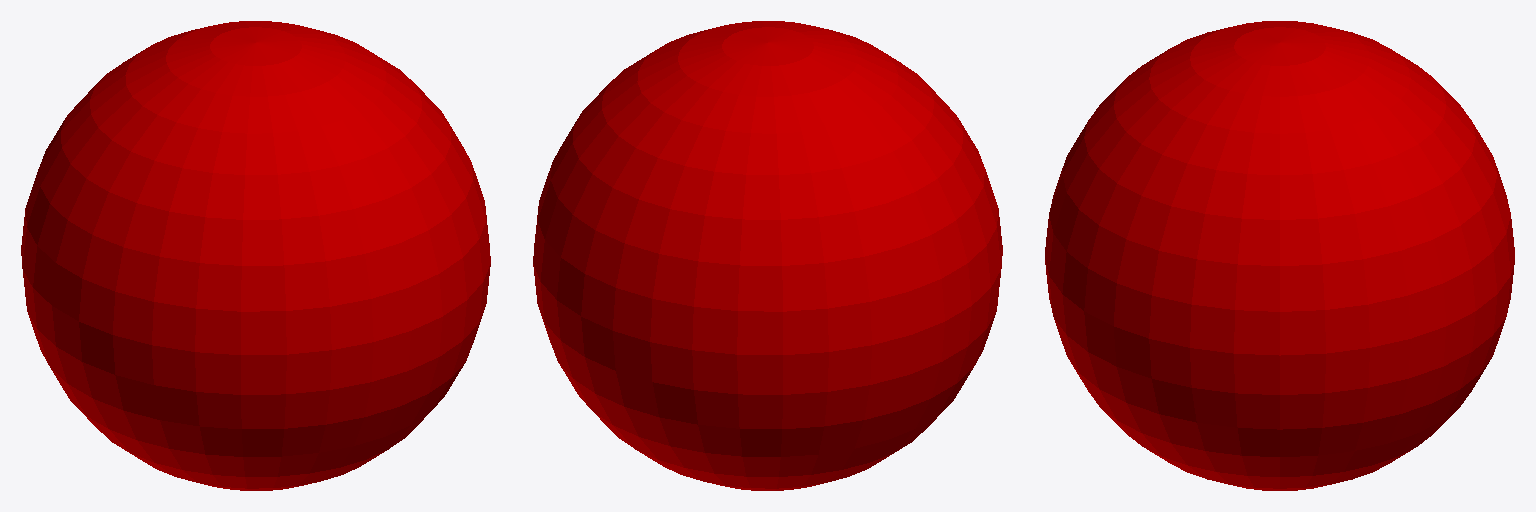
The model's file is creative_player.obj.
3 views of the same model, side by side, from view 1: azimuth 30°, elevation 25°; view 2: azimuth 150°, elevation 25°; view 3: azimuth 270°, elevation 25° (orthographic).
Parts seen in each view (by area): view 1: Sphere; view 2: Sphere; view 3: Sphere.
Boxes of the visible parts, x1=… form: Sphere: x1=21, y1=21, x2=490, y2=490; Sphere: x1=533, y1=21, x2=1002, y2=490; Sphere: x1=1045, y1=21, x2=1514, y2=490.
Size of the model in its own units: 2 by 2 by 2.